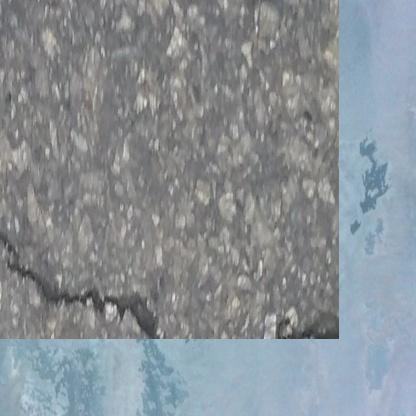Cracks: (0, 184, 160, 313), (275, 288, 313, 314)
